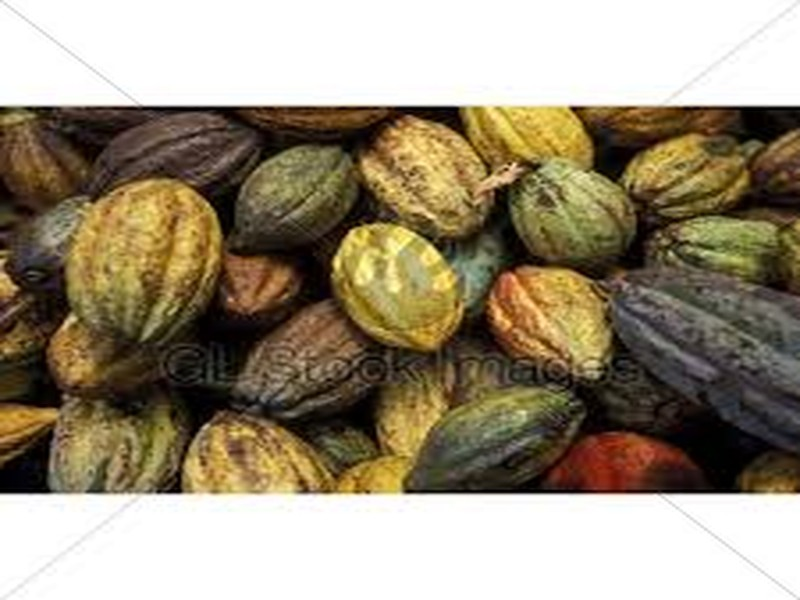Cacaopod: (66, 181, 224, 340), (328, 225, 462, 347)
